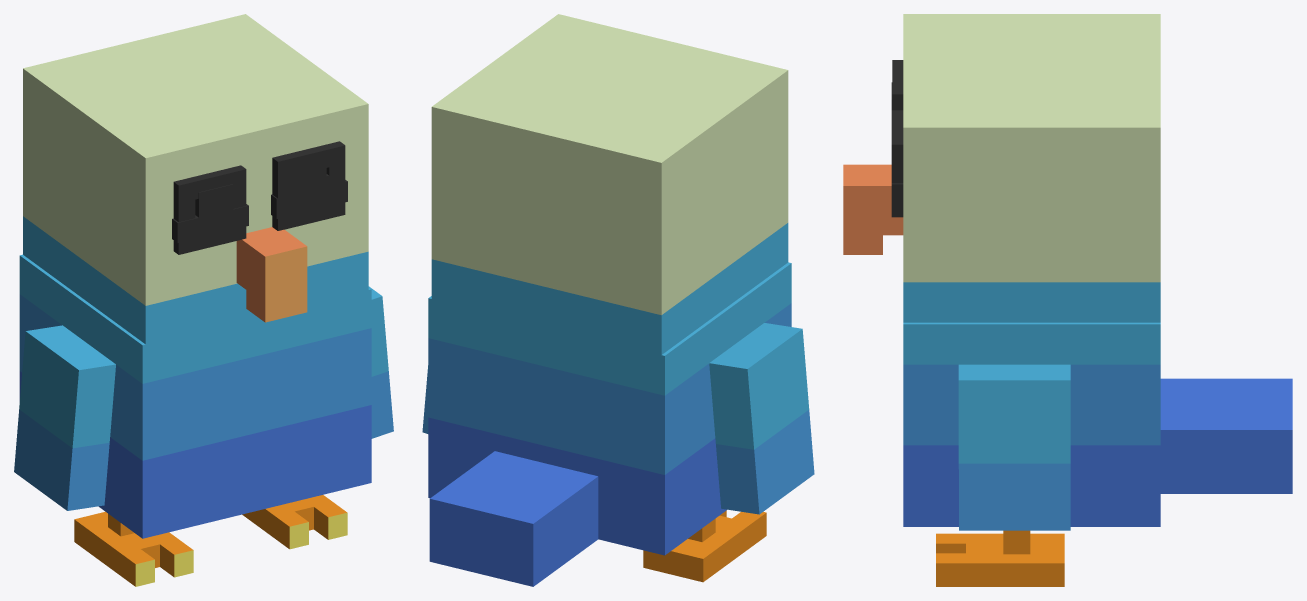
3 renders of one model, left to right at view 1: azimuth 30°, elevation 25°; view 2: azimuth 150°, elevation 25°; view 3: azimuth 270°, elevation 25°, orthographic. The views are drawn at different scales.
Visible parts, largest first — view 1: Ch_18_Head, Ch_18, Ch_18_Wing_L, Ch_18_Leg_L, Ch_18_Eye_03_R, Ch_18_Leg_R, Ch_18_Eye_01, Ch_18_Eye_03_L, Ch_18_Wing_R, Ch_18_Eye_02; view 2: Ch_18_Head, Ch_18, Ch_18_Wing_L, Ch_18_Leg_L; view 3: Ch_18_Head, Ch_18, Ch_18_Wing_R, Ch_18_Leg_R, Ch_18_Eye_03_R, Ch_18_Eye_03_L.
Part boxes in pixels (x1,y1,x2,y2): Ch_18_Head: [23, 14, 368, 344]; Ch_18: [19, 254, 371, 538]; Ch_18_Wing_L: [14, 325, 115, 510]; Ch_18_Leg_L: [74, 511, 193, 586]; Ch_18_Eye_03_R: [272, 141, 345, 230]; Ch_18_Leg_R: [242, 495, 347, 549]; Ch_18_Eye_01: [195, 161, 326, 237]; Ch_18_Eye_03_L: [173, 165, 246, 254]; Ch_18_Wing_R: [368, 286, 393, 438]; Ch_18_Eye_02: [172, 180, 347, 242]; Ch_18_Head: [431, 14, 788, 354]; Ch_18: [428, 262, 791, 586]; Ch_18_Wing_L: [709, 323, 814, 514]; Ch_18_Leg_L: [643, 510, 766, 582]; Ch_18_Head: [843, 14, 1160, 322]; Ch_18: [903, 322, 1292, 526]; Ch_18_Wing_R: [958, 364, 1070, 530]; Ch_18_Leg_R: [936, 530, 1064, 586]; Ch_18_Eye_03_R: [891, 110, 903, 217]; Ch_18_Eye_03_L: [892, 60, 903, 110].
Bounding box in the file's own units: 8.08 × 10.43 × 9.19.
